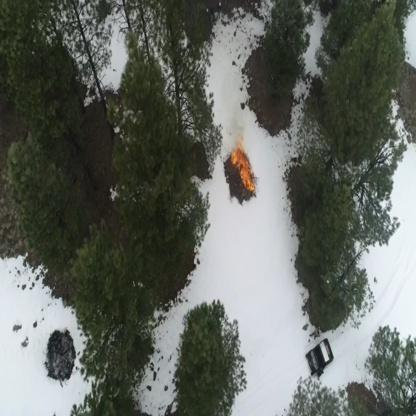Fire: (228, 135, 256, 193)
